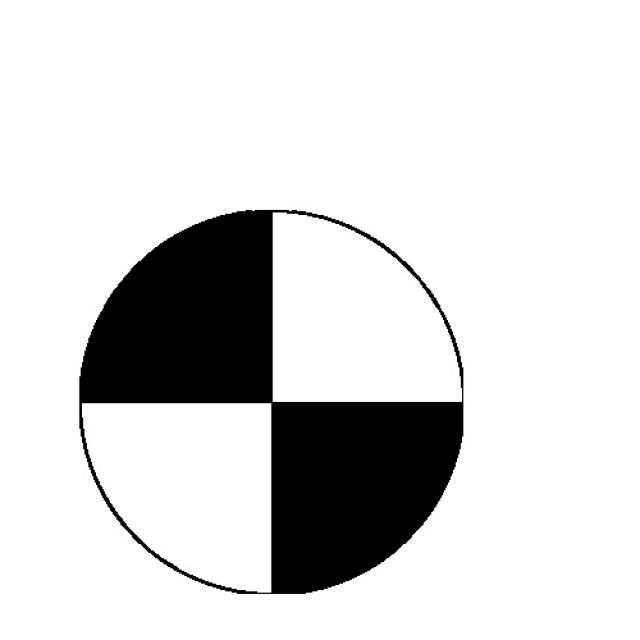Marcadores: (82, 209, 464, 594)
